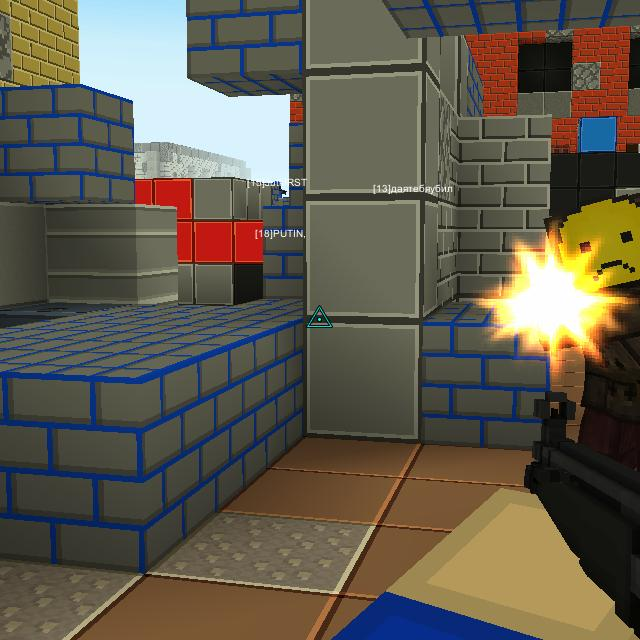enemy: (547, 188, 640, 479)
